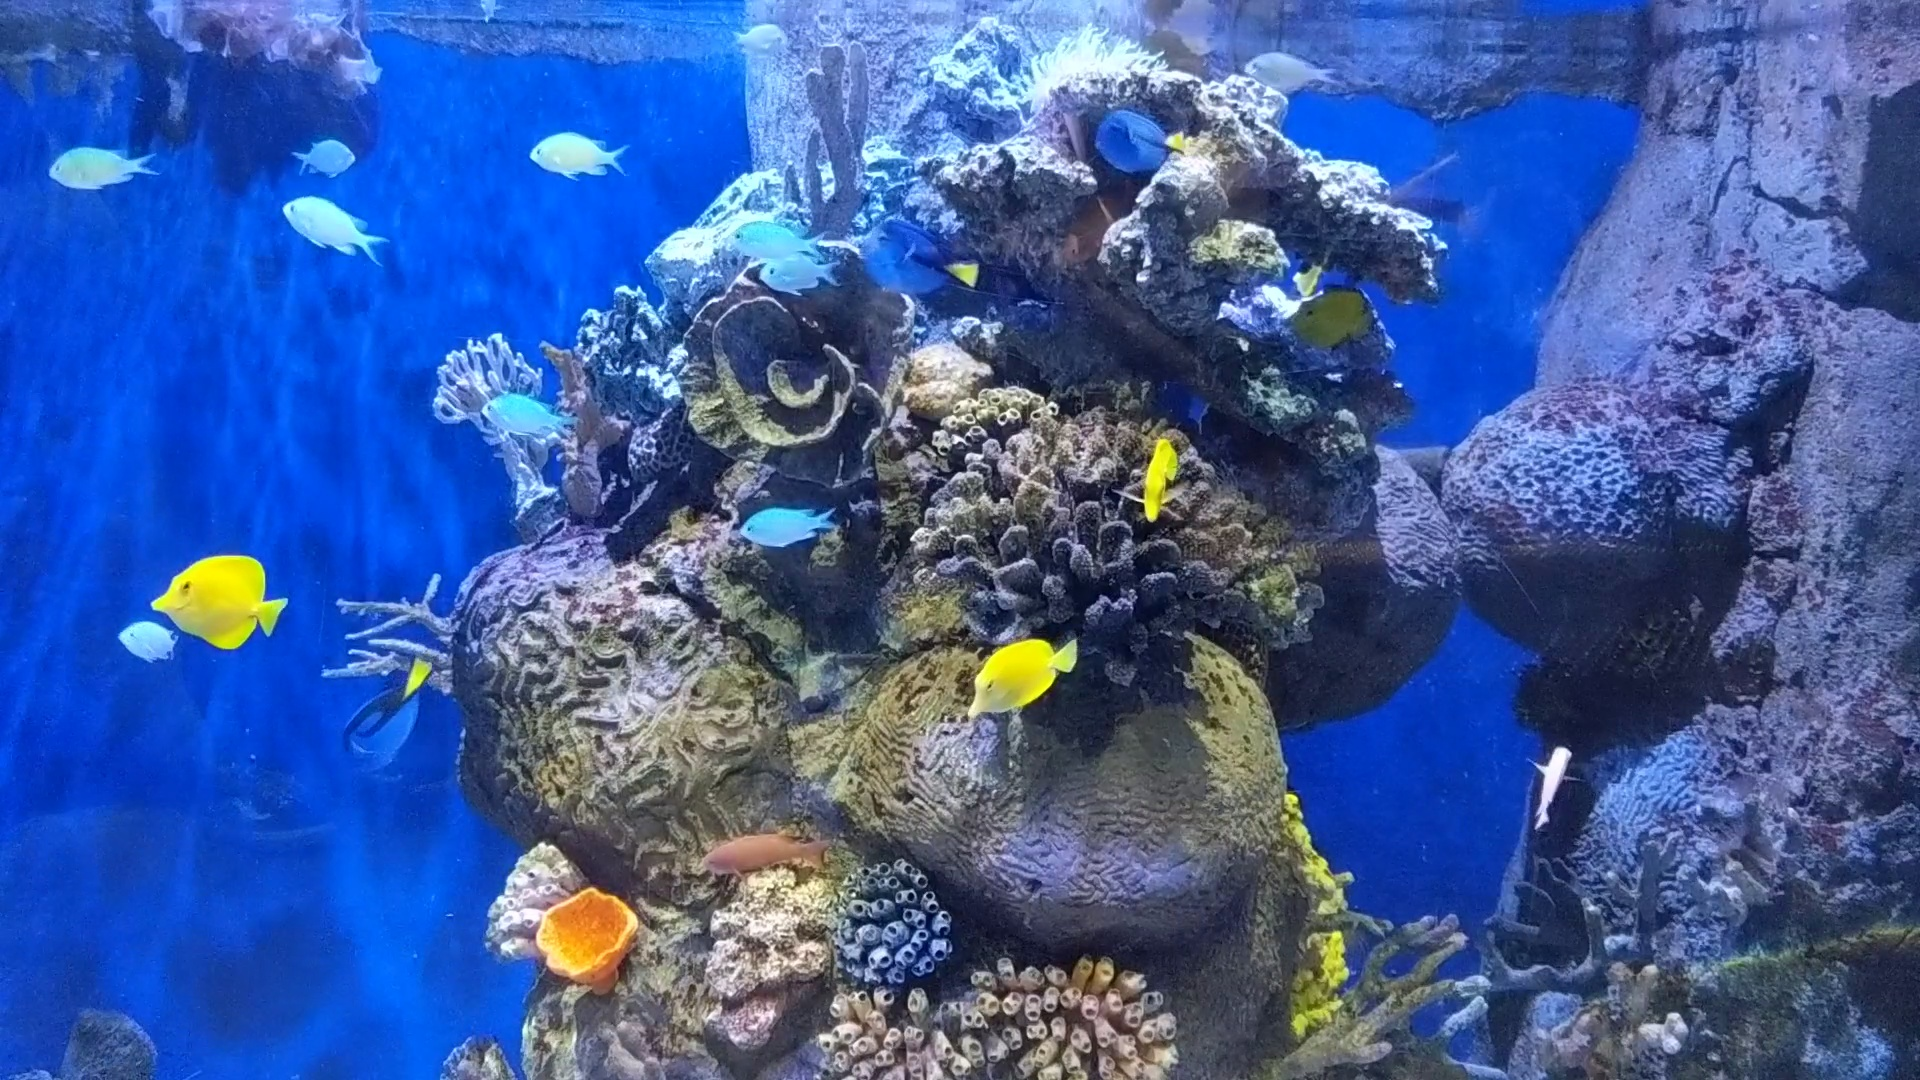blue tang surgeonfish: (853, 196, 1000, 313), (322, 644, 446, 771), (1087, 99, 1205, 187)
damselfish: (264, 185, 407, 286), (36, 129, 166, 204), (469, 382, 588, 464), (1234, 36, 1346, 103), (524, 113, 622, 185), (731, 492, 839, 550), (760, 245, 851, 306), (103, 615, 194, 670), (733, 215, 822, 258), (291, 131, 357, 185)
pink fish: (1509, 720, 1592, 843)
saddle butterfly fish: (129, 534, 301, 673), (945, 611, 1095, 731)
